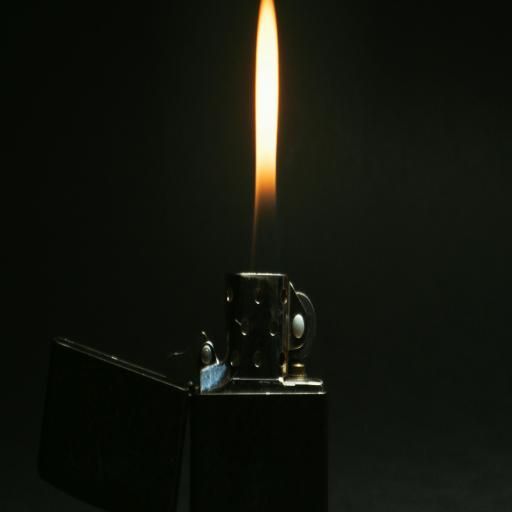fire: (244, 6, 297, 164)
lighter: (25, 0, 363, 512)
